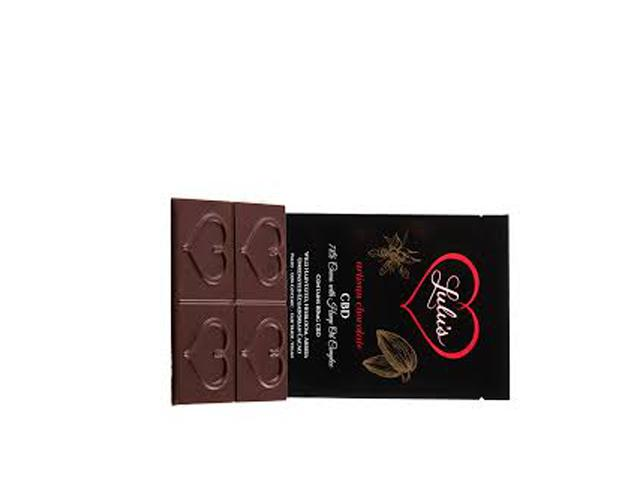chocolate: (156, 181, 511, 410)
